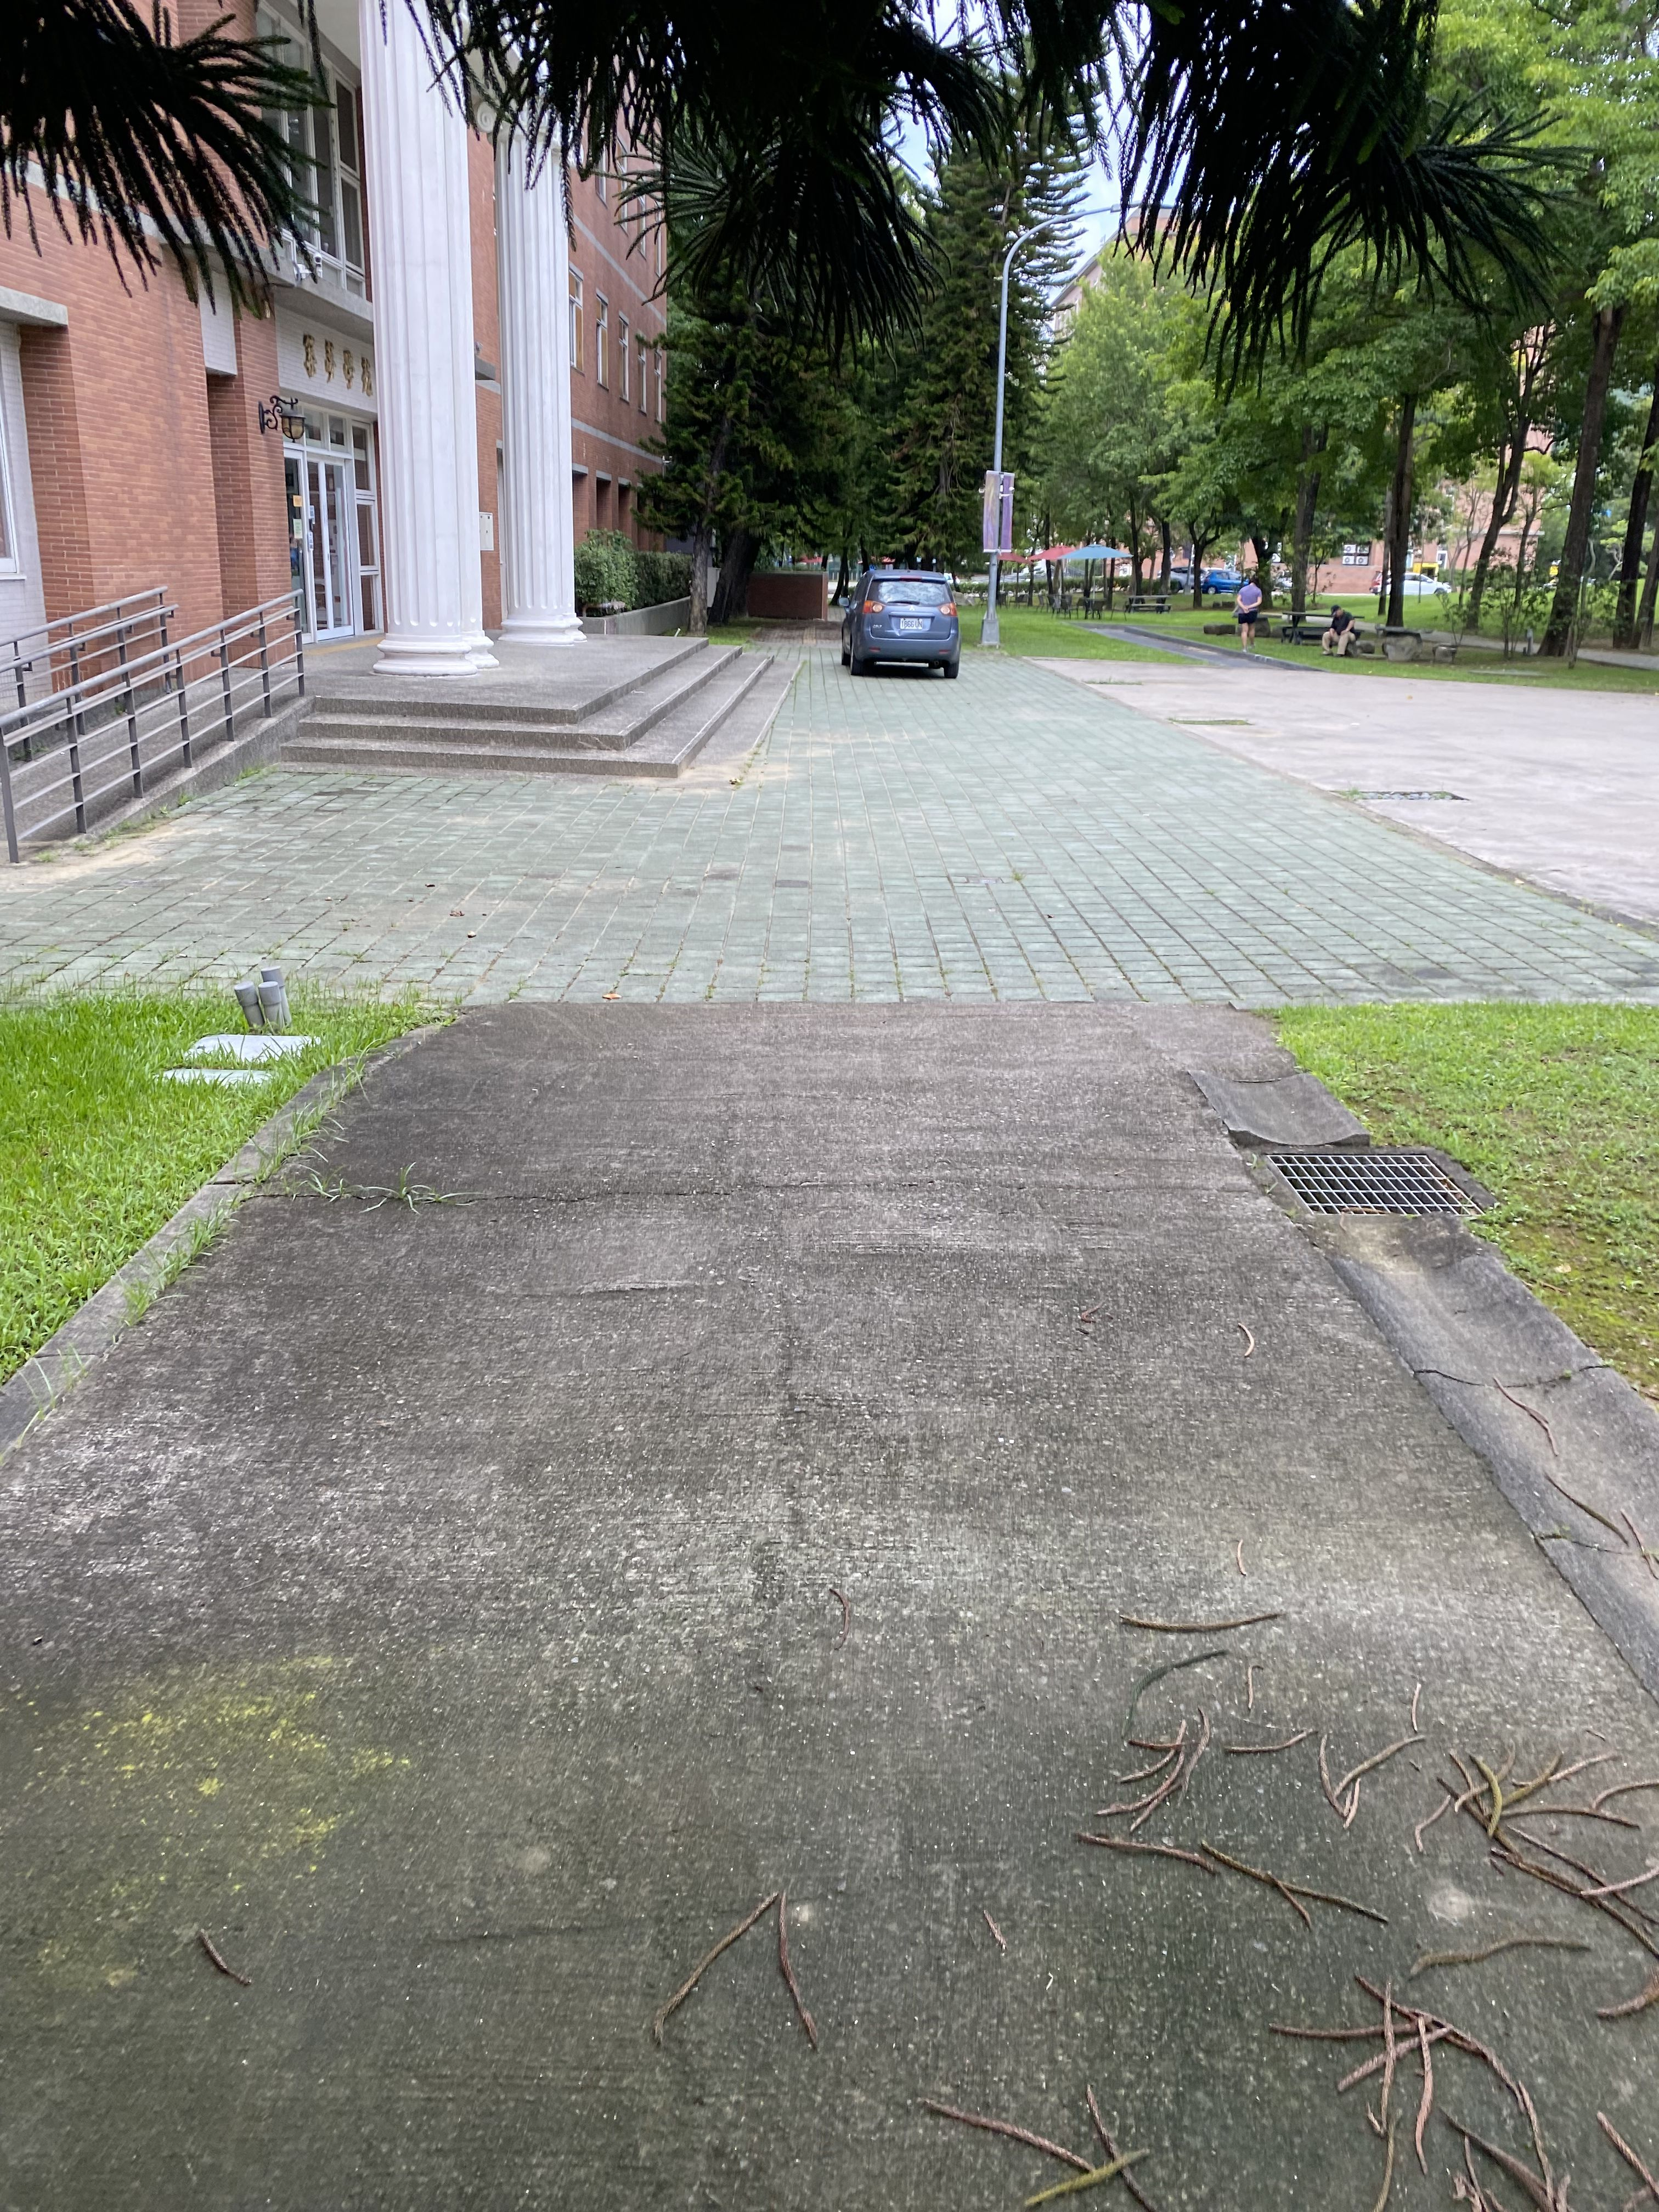sidewalk: (10, 624, 1659, 2212)
